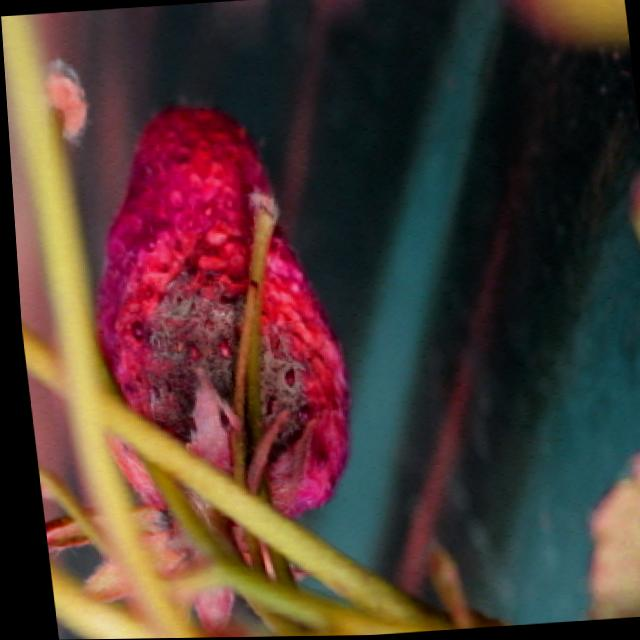Gray Mold: (91, 105, 344, 628)
